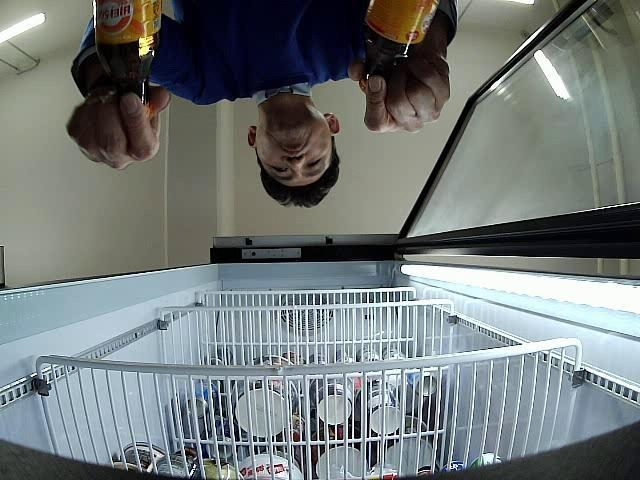17_vita500: (95, 1, 160, 124), (358, 0, 437, 93)
